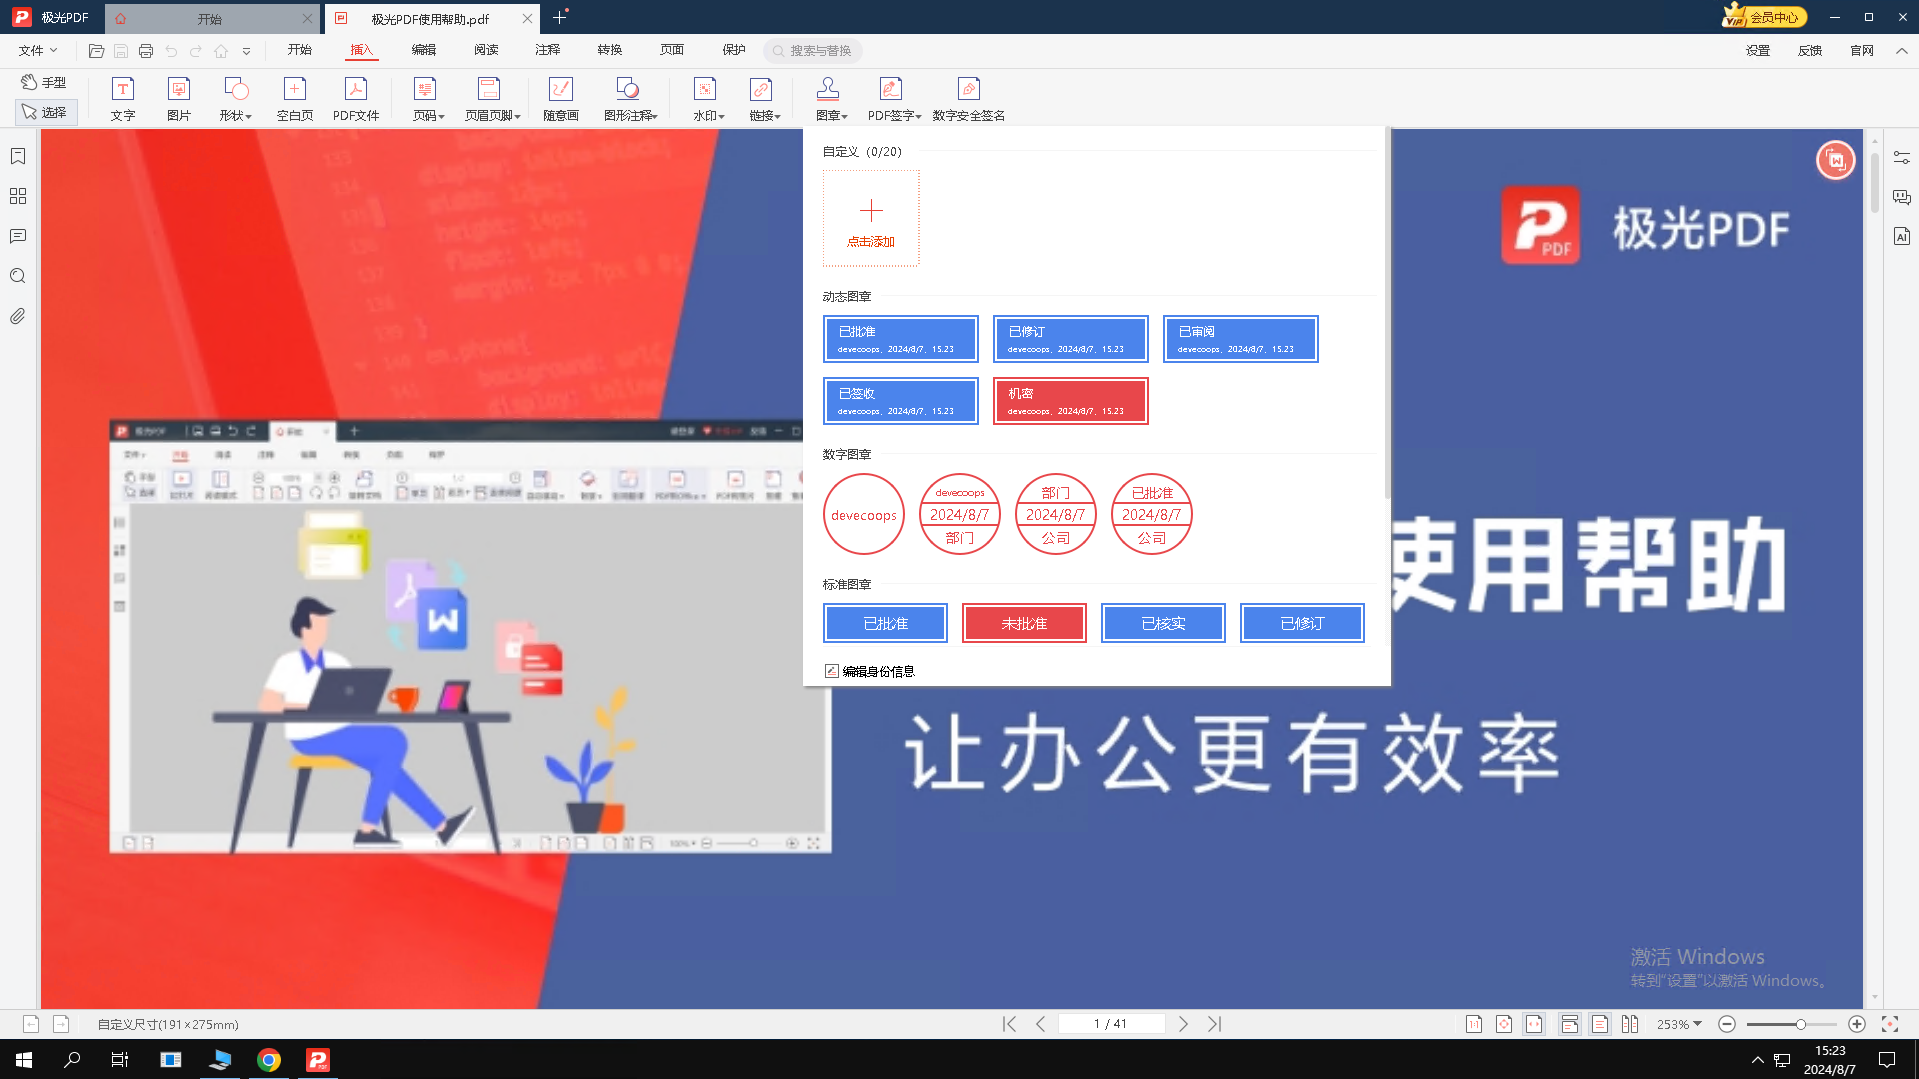Clickable: (813, 166, 921, 267), (818, 657, 934, 684)
Root: (801, 128, 1392, 686)
Selectable: (1152, 300, 1334, 374), (985, 370, 1164, 437), (1010, 462, 1108, 569), (986, 311, 1157, 369), (915, 464, 1010, 568), (815, 310, 981, 369), (818, 375, 988, 432), (1108, 466, 1199, 569), (815, 472, 915, 563), (1097, 595, 1231, 653), (1234, 594, 1373, 648), (817, 594, 952, 650), (958, 595, 1091, 648)
level_0: (797, 271, 1390, 439), (800, 129, 1387, 273), (800, 437, 1390, 576), (796, 576, 1394, 686)
